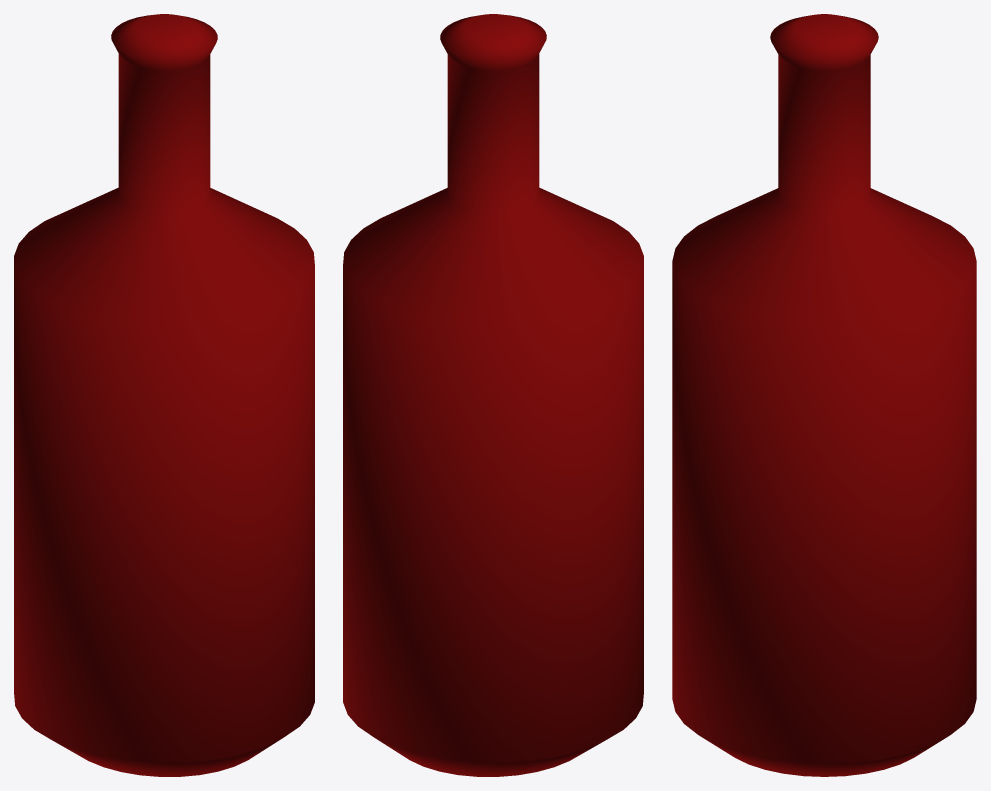
Rendered from Flasche3.fbx.
3 renders of one model, left to right at view 1: azimuth 30°, elevation 25°; view 2: azimuth 150°, elevation 25°; view 3: azimuth 270°, elevation 25°, orthographic.
Visible parts, largest first — view 1: pasted__Flasche6; view 2: pasted__Flasche6; view 3: pasted__Flasche6.
Part boxes in pixels (x1=…): pasted__Flasche6: x1=14, y1=14, x2=314, y2=776; pasted__Flasche6: x1=343, y1=14, x2=643, y2=776; pasted__Flasche6: x1=672, y1=14, x2=976, y2=776.
Size of the model in its own units: 0.146 by 0.3784 by 0.1474.
